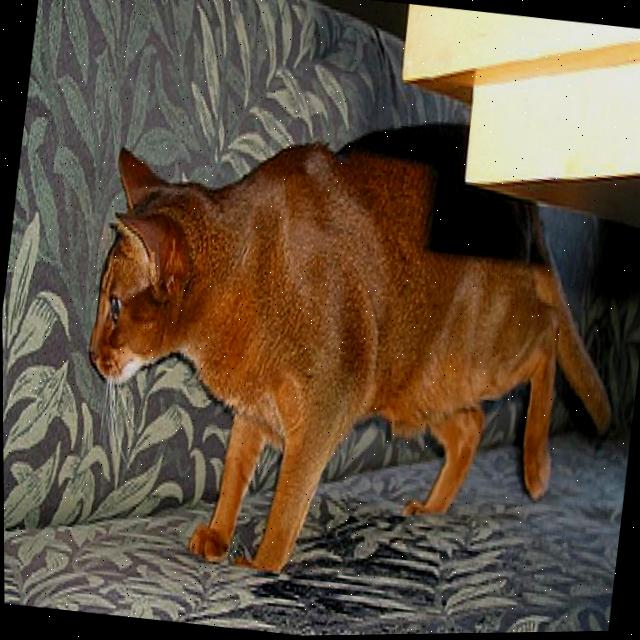Abyssinian: (54, 71, 640, 619)
